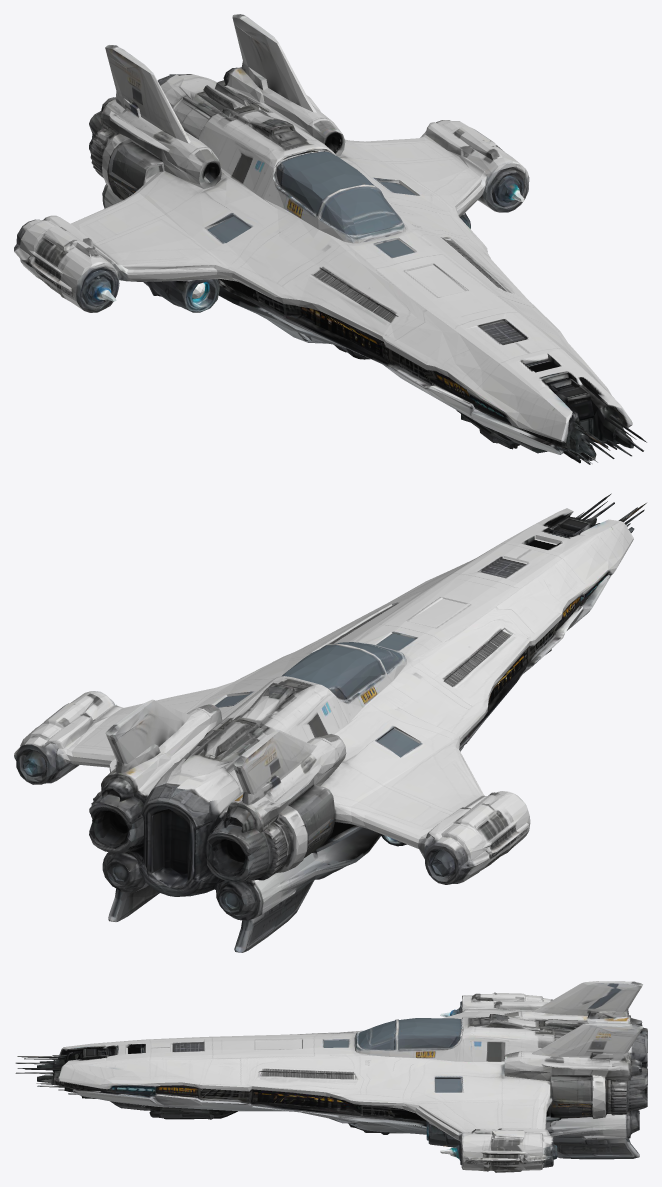
File: zenith.glb
3 renders of one model, top to bottom at view 1: azimuth 30°, elevation 25°; view 2: azimuth 150°, elevation 25°; view 3: azimuth 270°, elevation 25°, orthographic. The views are drawn at different scales.
Parts seen in each view (by area): view 1: aircraft; view 2: aircraft; view 3: aircraft.
Boxes of the visible parts, x1,y1,x2,y2 form: aircraft: [14, 14, 646, 464]; aircraft: [14, 493, 646, 952]; aircraft: [15, 981, 647, 1172].
Size of the model in its own units: 0.6868 by 0.2755 by 1.18.
Materials: 1 (1 with a texture image).
